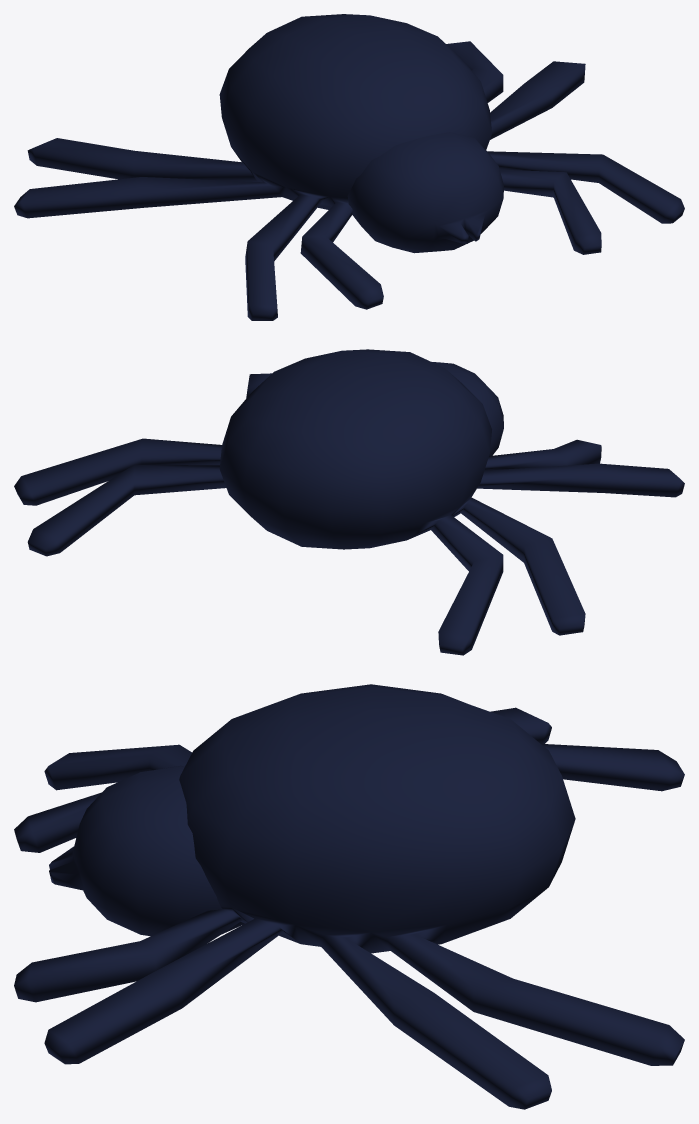
Rendered from kumoooooo.fbx.
3 renders of one model, top to bottom at view 1: azimuth 30°, elevation 25°; view 2: azimuth 150°, elevation 25°; view 3: azimuth 270°, elevation 25°, orthographic. The views are drawn at different scales.
Parts seen in each view (by area): view 1: pCube2, pCube1; view 2: pCube2, pCube1; view 3: pCube2, pCube1.
Part boxes in pixels (<box>): pCube2: <box>14,14,684,320</box>; pCube1: <box>347,132,503,253</box>; pCube2: <box>14,349,684,655</box>; pCube1: <box>432,362,503,455</box>; pCube2: <box>14,684,684,1109</box>; pCube1: <box>49,765,244,936</box>.
Bounding box in the file's own units: 2.97 × 0.7829 × 2.19.
